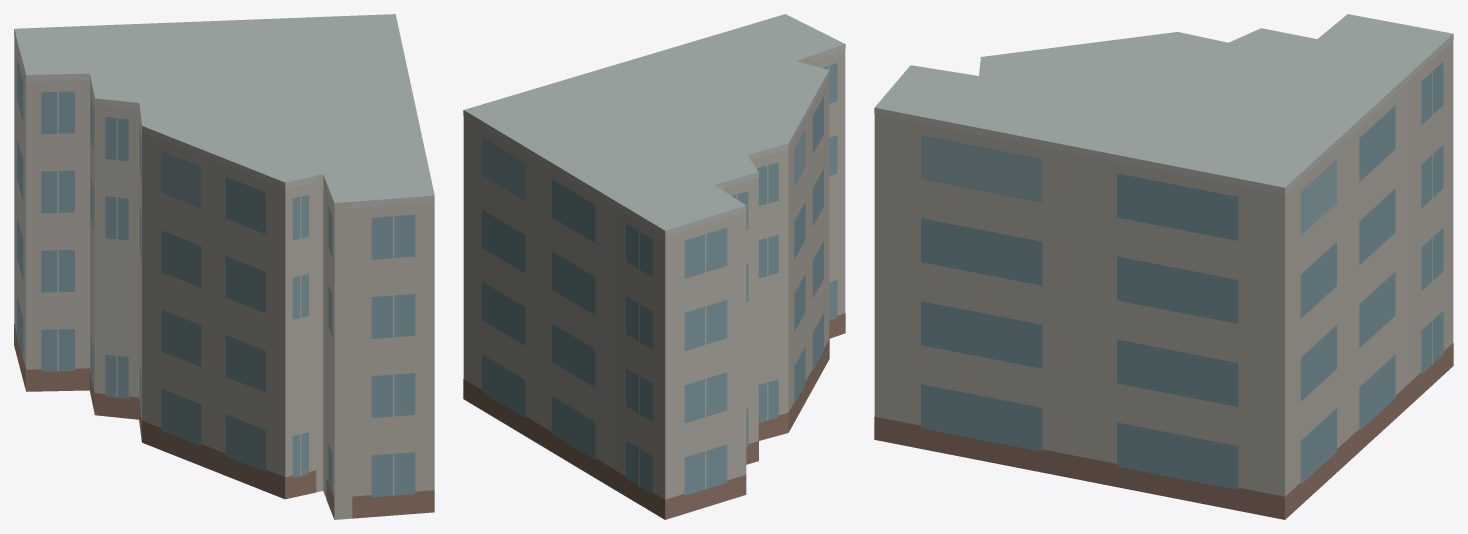
The model's file is survey-upis-33027056.glb.
3 views of the same model, side by side, from view 1: azimuth 30°, elevation 25°; view 2: azimuth 150°, elevation 25°; view 3: azimuth 270°, elevation 25° (orthographic). The views are drawn at different scales.
Visible parts, largest first — view 1: survey-upis-33027056.tmp; view 2: survey-upis-33027056.tmp; view 3: survey-upis-33027056.tmp.
Boxes of the visible parts, bbox=[...] form: survey-upis-33027056.tmp: bbox=[14, 14, 434, 519]; survey-upis-33027056.tmp: bbox=[463, 14, 845, 519]; survey-upis-33027056.tmp: bbox=[874, 14, 1453, 519].
Size of the model in its own units: 13.7 by 12.2 by 19.28.
